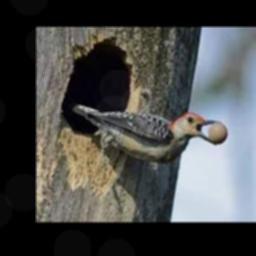Woodpecker: (72, 103, 222, 164)
